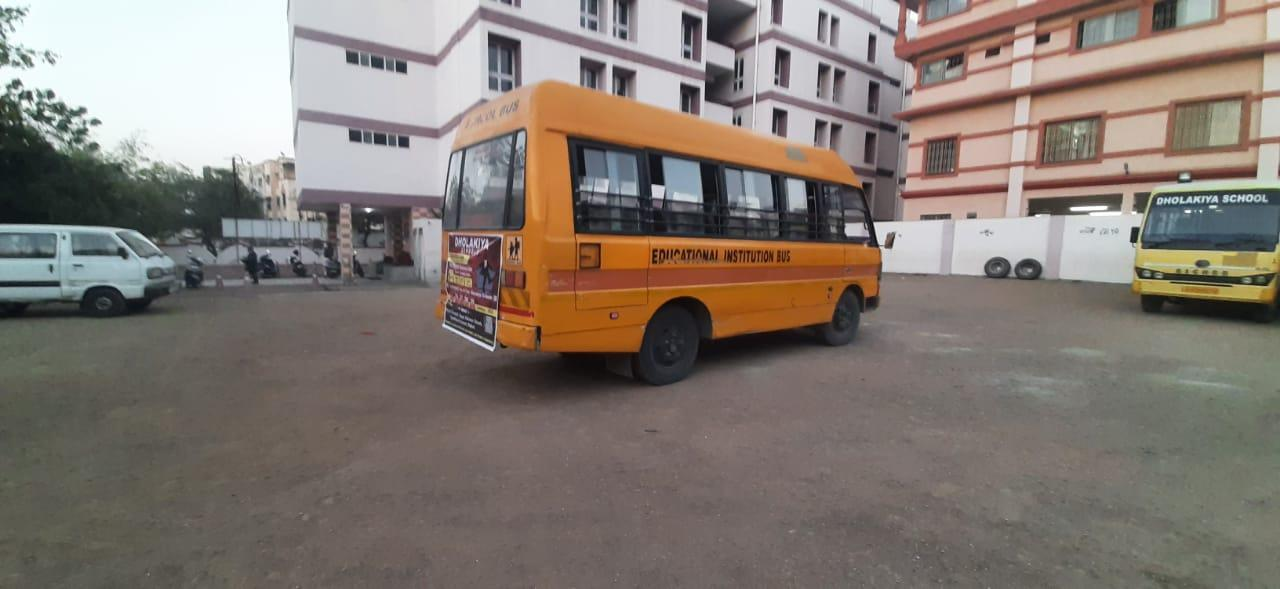Bus: (423, 63, 917, 406), (1129, 160, 1280, 348)
